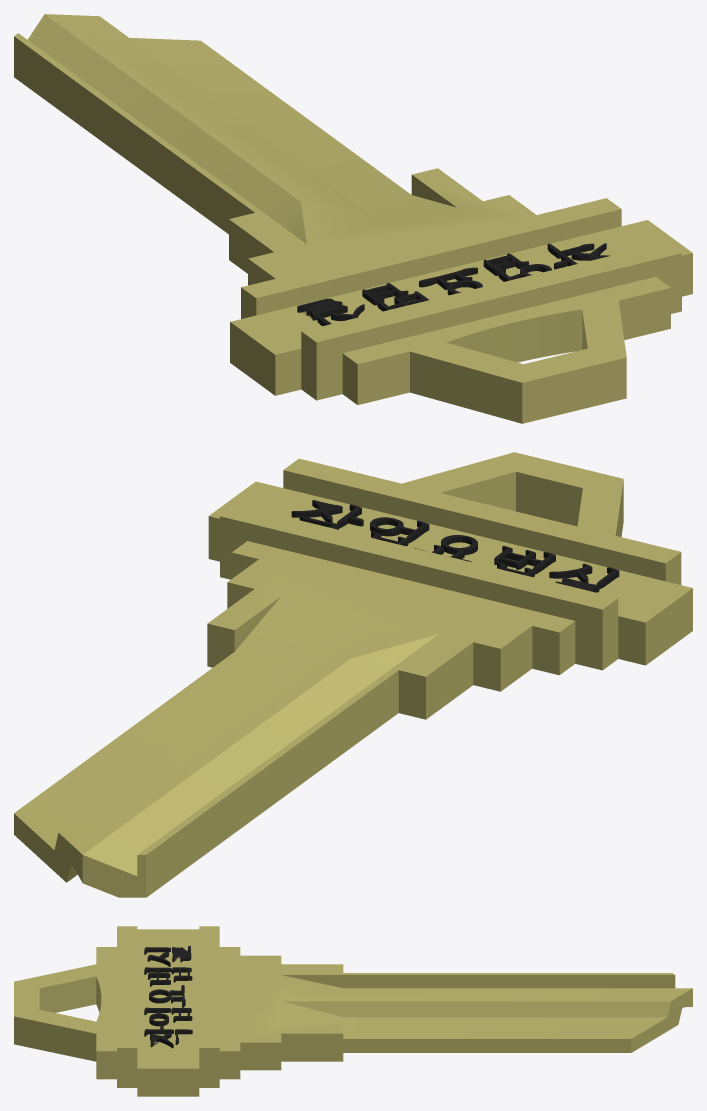
Rendered from TherapyRoomKey.fbx.
3 views of the same model, one above another, from view 1: azimuth 30°, elevation 25°; view 2: azimuth 150°, elevation 25°; view 3: azimuth 270°, elevation 25° (orthographic). The views are drawn at different scales.
Parts seen in each view (by area): view 1: Group2, Group1; view 2: Group2, Group1; view 3: Group2, Group1.
Part boxes in pixels (x1,y1,x2,y2): Group2: (14,14,692,423); Group1: (297,243,610,326); Group2: (14,452,692,897); Group1: (291,500,619,592); Group2: (14,926,692,1096); Group1: (144,946,192,1048).
Bounding box in the file's own units: 25.4 × 3.38 × 52.39.
